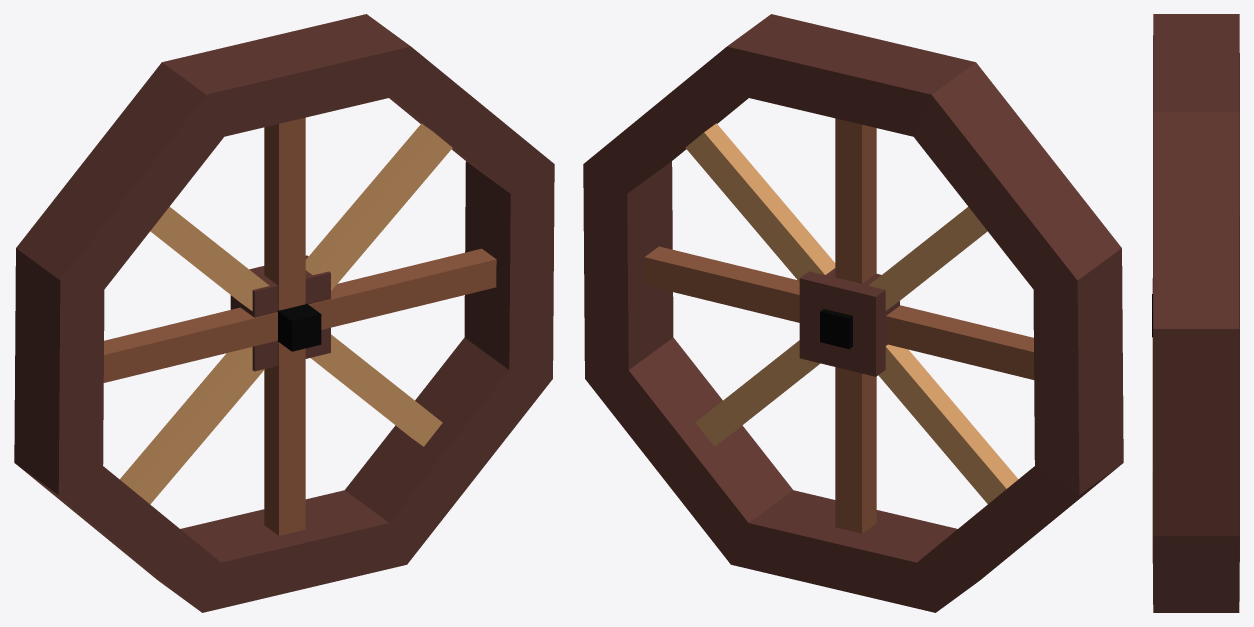
The model's file is wheel_lowpoly.fbx.
3 renders of one model, left to right at view 1: azimuth 30°, elevation 25°; view 2: azimuth 150°, elevation 25°; view 3: azimuth 270°, elevation 25°, orthographic. The views are drawn at different scales.
Parts seen in each view (by area): view 1: Cube_Cube.001; view 2: Cube_Cube.001; view 3: Cube_Cube.001.
Part boxes in pixels (box(x1,y1,x2,y2)): Cube_Cube.001: box(14, 14, 554, 612); Cube_Cube.001: box(583, 14, 1123, 612); Cube_Cube.001: box(1152, 14, 1239, 612).
Bounding box in the file's own units: 180 × 180 × 28.42.
